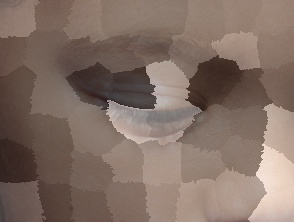vitiligo: (62, 40, 179, 147)
